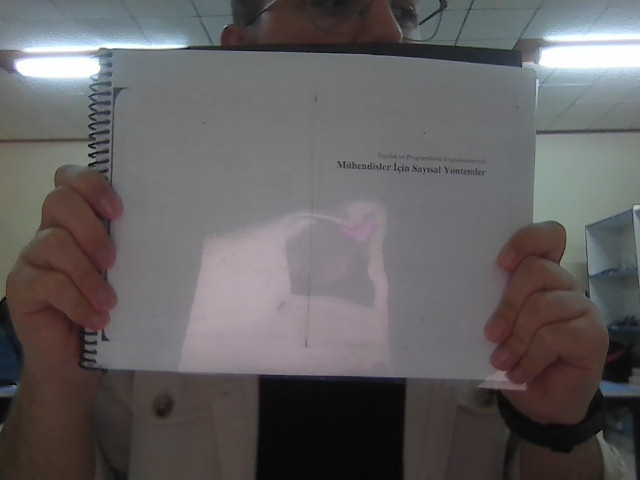DeepFakes: (14, 40, 562, 478)
